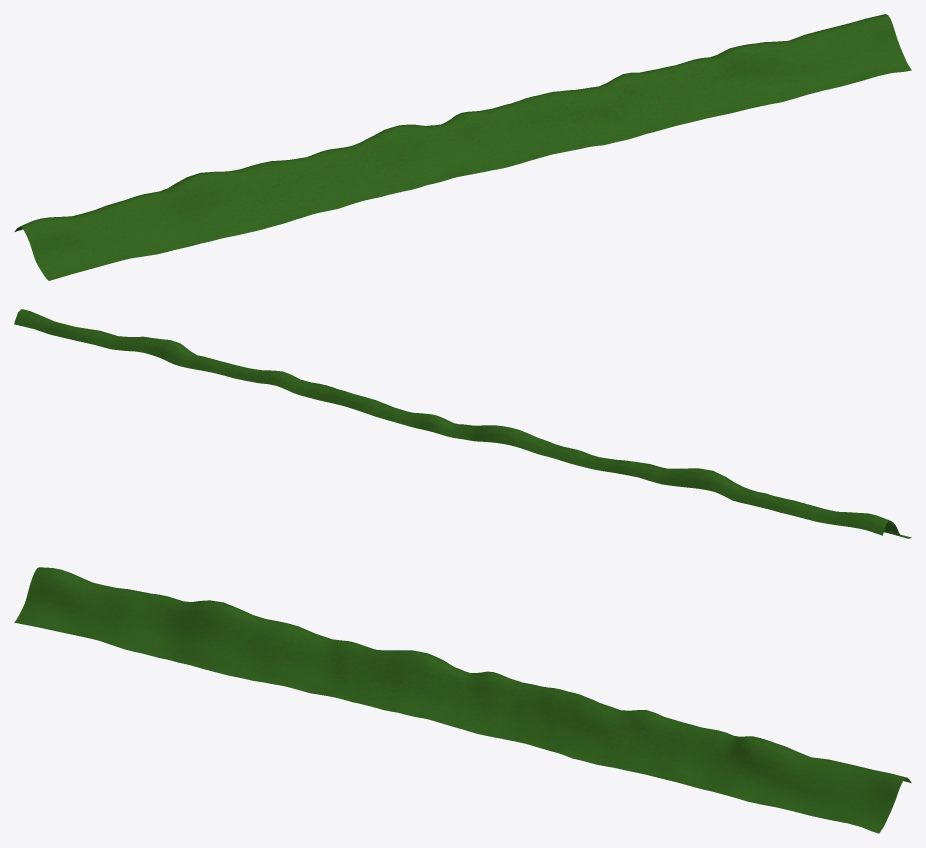
Rendered from background.glb.
3 views of the same model, one above another, from view 1: azimuth 30°, elevation 25°; view 2: azimuth 150°, elevation 25°; view 3: azimuth 330°, elevation 25° (orthographic).
Parts seen in each view (by area): view 1: Background; view 2: Background; view 3: Background.
Boxes of the visible parts, x1=… form: Background: x1=14, y1=14, x2=911, y2=280; Background: x1=14, y1=309, x2=911, y2=538; Background: x1=14, y1=567, x2=911, y2=833.
Bounding box in the file's own units: 1664 × 83.41 × 124.
1 material, 1 textured.
